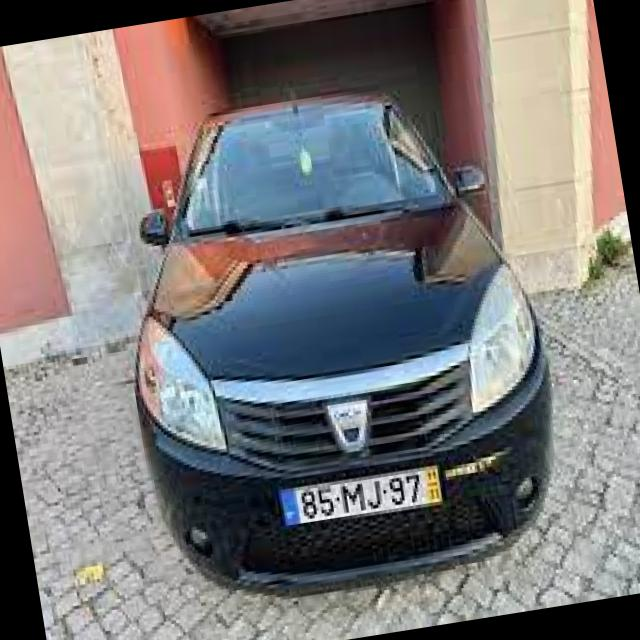portuguese-license-plates: (275, 457, 453, 534)
